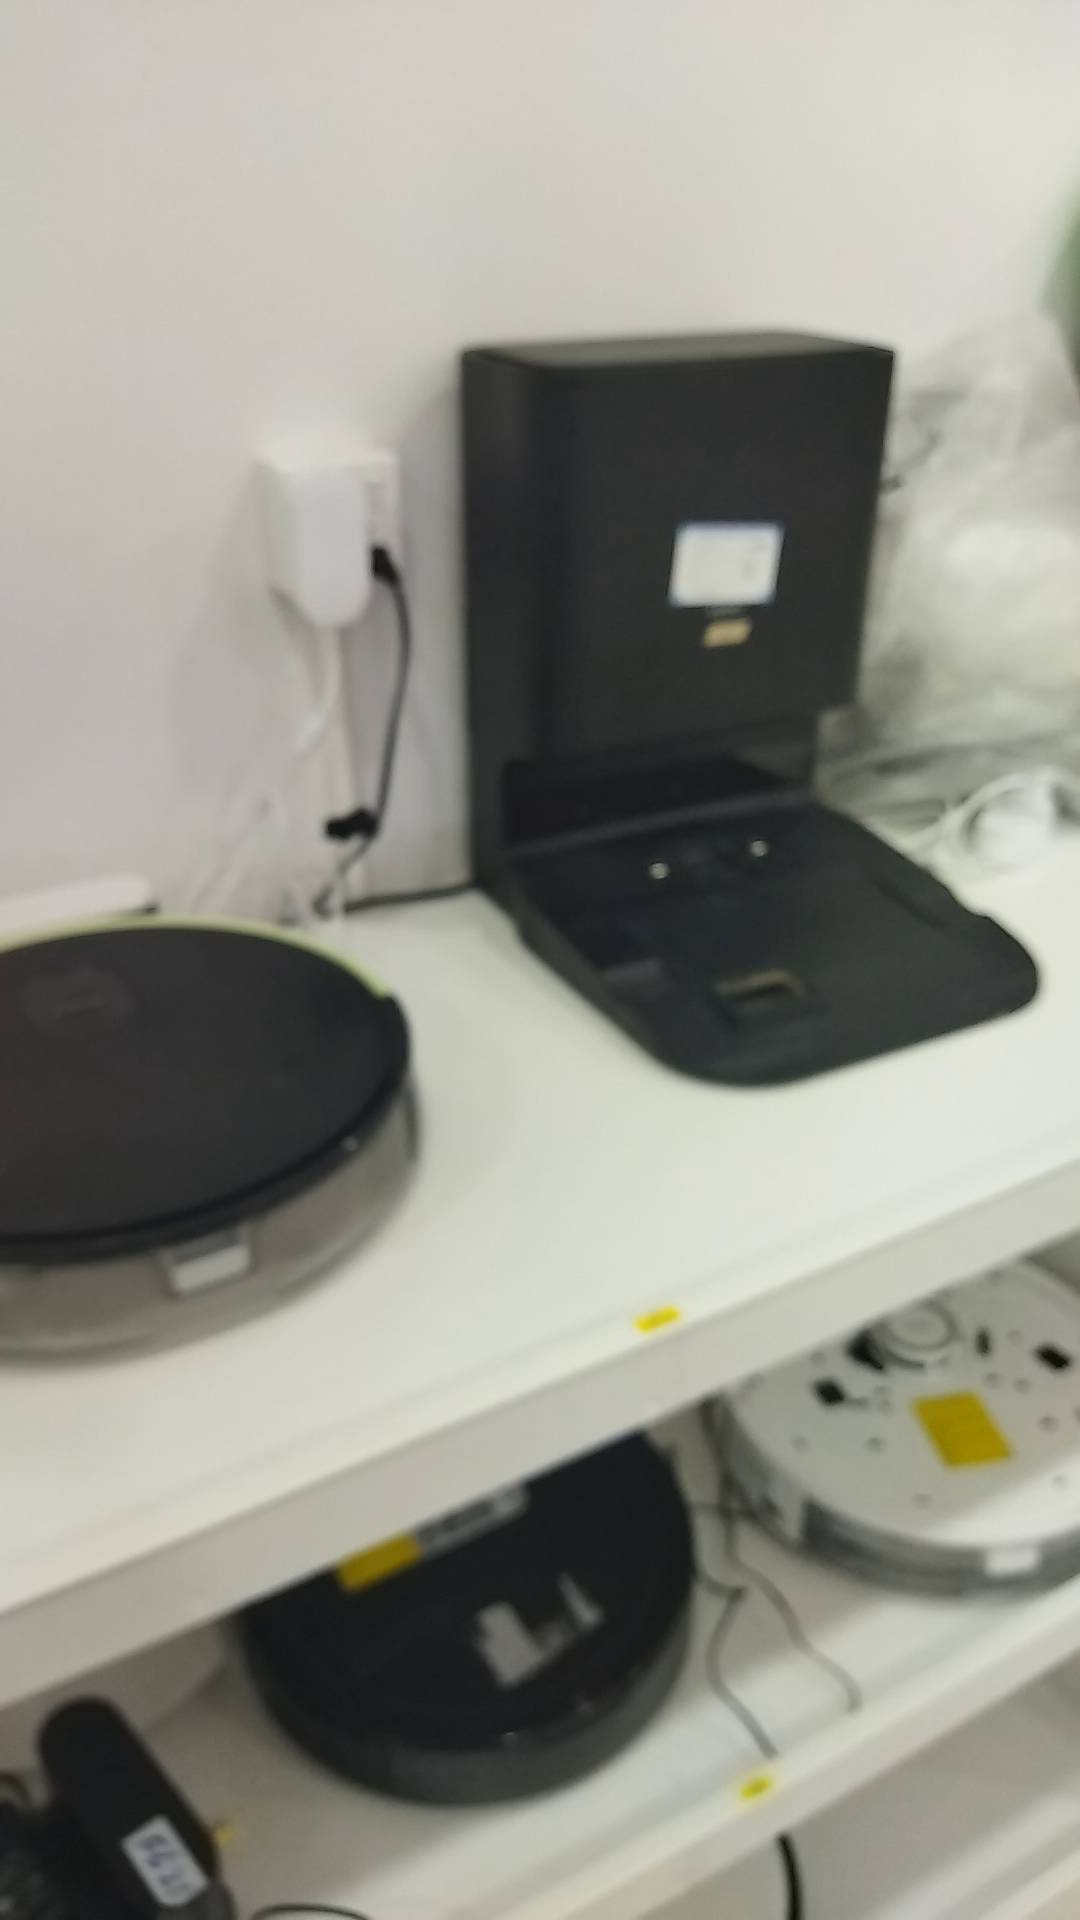dust collecting barrel: (454, 328, 1036, 1092)
